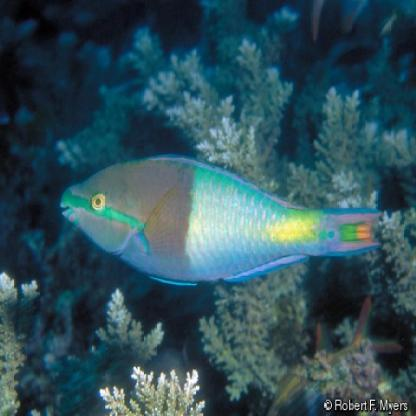Scaridae -Parrotfishes-: (57, 149, 385, 288)
